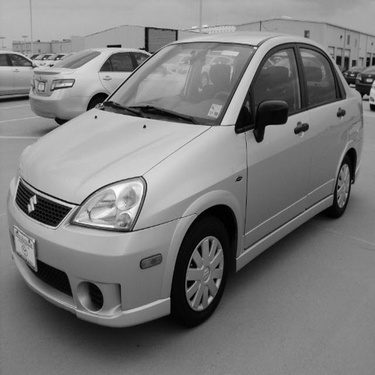car: (2, 26, 368, 336), (31, 46, 187, 126), (1, 48, 38, 96), (344, 63, 369, 89), (351, 70, 372, 100), (53, 48, 66, 67), (33, 52, 50, 65), (368, 77, 373, 115), (29, 50, 36, 63)
